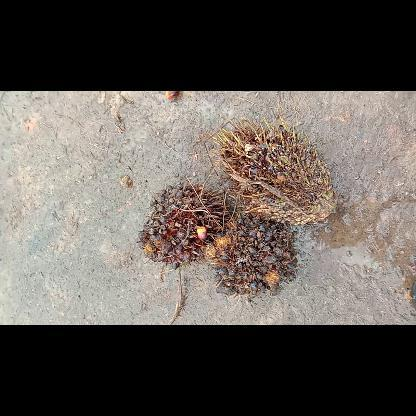TBS abnormal: (209, 116, 337, 224), (138, 181, 230, 268), (202, 213, 296, 291)
